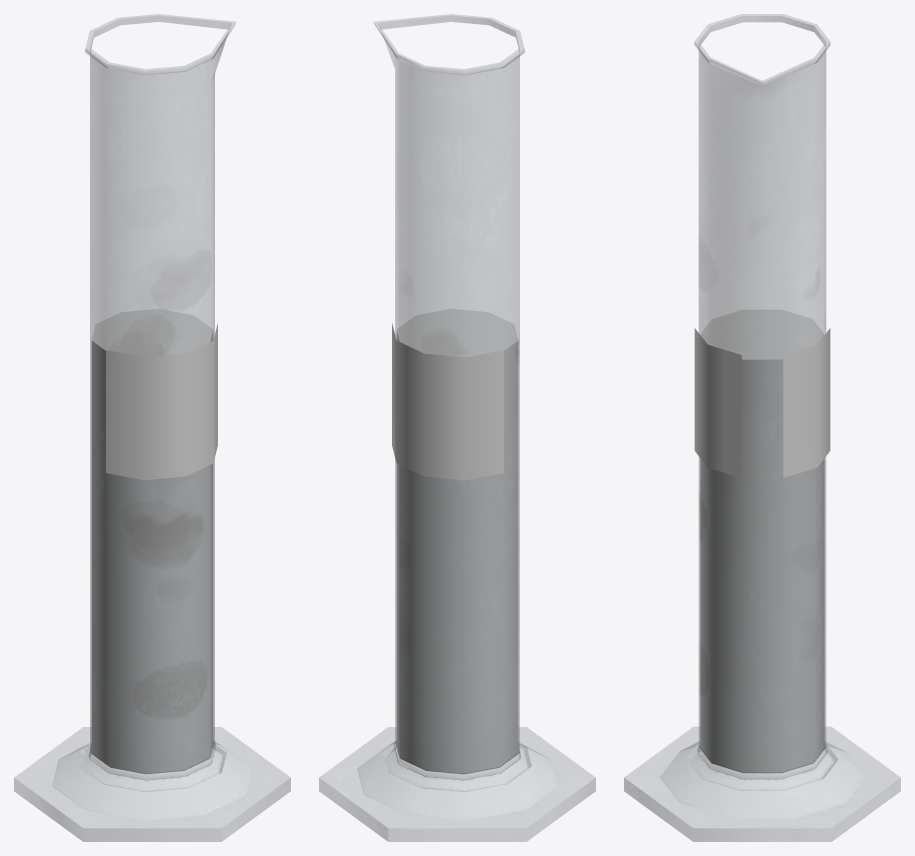
3 views of the same model, side by side, from view 1: azimuth 30°, elevation 25°; view 2: azimuth 150°, elevation 25°; view 3: azimuth 270°, elevation 25° (orthographic).
Visible parts, largest first — view 1: BeakerwOpacity, BeakerLiquid; view 2: BeakerwOpacity, BeakerLiquid; view 3: BeakerwOpacity, BeakerLiquid.
Boxes of the visible parts, box(x1,y1,x2,y2) form: BeakerwOpacity: box(14, 14, 290, 841); BeakerLiquid: box(91, 309, 217, 774); BeakerwOpacity: box(319, 14, 595, 841); BeakerLiquid: box(392, 309, 518, 774); BeakerwOpacity: box(624, 14, 900, 841); BeakerLiquid: box(694, 309, 830, 773).
Size of the model in its own units: 0.0863 by 0.2976 by 0.0996.
1 material, 1 textured.
